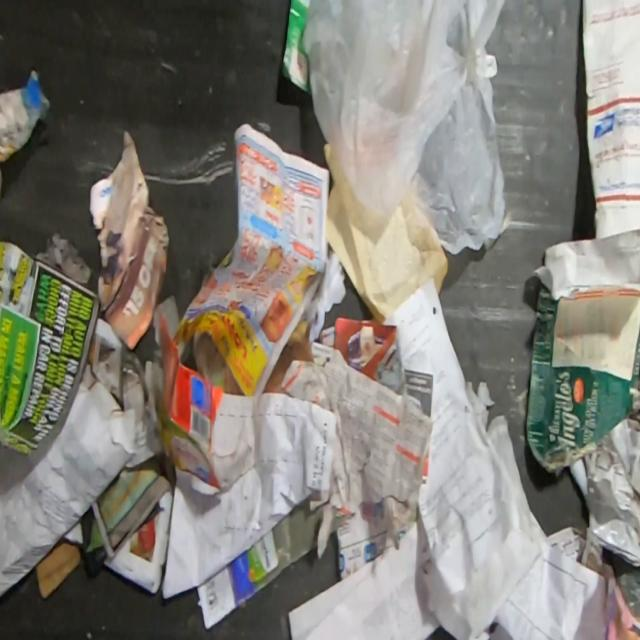cardboard: (524, 227, 640, 481), (580, 0, 640, 244), (34, 535, 83, 598)
soft_plastic: (302, 0, 510, 255), (600, 545, 640, 628)
